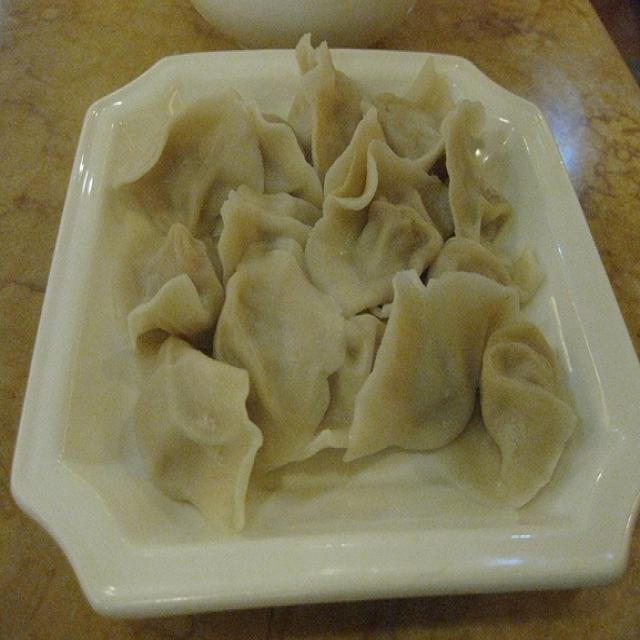带馅早点: (30, 31, 621, 610)
